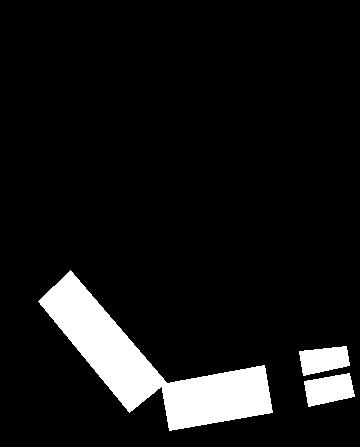parkingspot: (38, 270, 166, 412), (161, 365, 272, 430), (304, 373, 354, 406), (299, 346, 349, 375)
